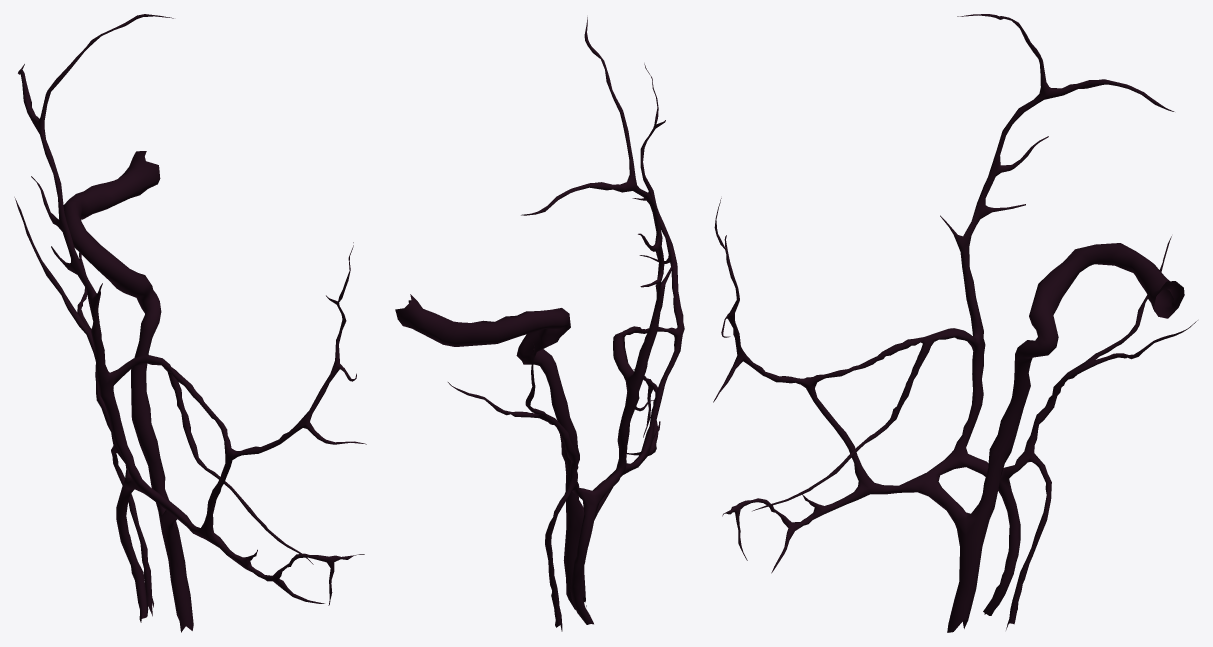
The model's file is Veins_Intercostales_dorsales_lower.005.obj.
The picture shows the model from 3 angles, left to right: view 1: azimuth 30°, elevation 25°; view 2: azimuth 150°, elevation 25°; view 3: azimuth 270°, elevation 25°; orthographic projection. The views are drawn at different scales.
Visible parts, largest first — view 1: Veins_Intercostales_dorsales_lower.005_Veins_lower.003; view 2: Veins_Intercostales_dorsales_lower.005_Veins_lower.003; view 3: Veins_Intercostales_dorsales_lower.005_Veins_lower.003.
Part boxes in pixels (<box>): Veins_Intercostales_dorsales_lower.005_Veins_lower.003: <box>14,14,366,632</box>; Veins_Intercostales_dorsales_lower.005_Veins_lower.003: <box>395,17,684,631</box>; Veins_Intercostales_dorsales_lower.005_Veins_lower.003: <box>713,14,1197,632</box>.
Bounding box in the file's own units: 0.418 × 1.35 × 0.9705.
